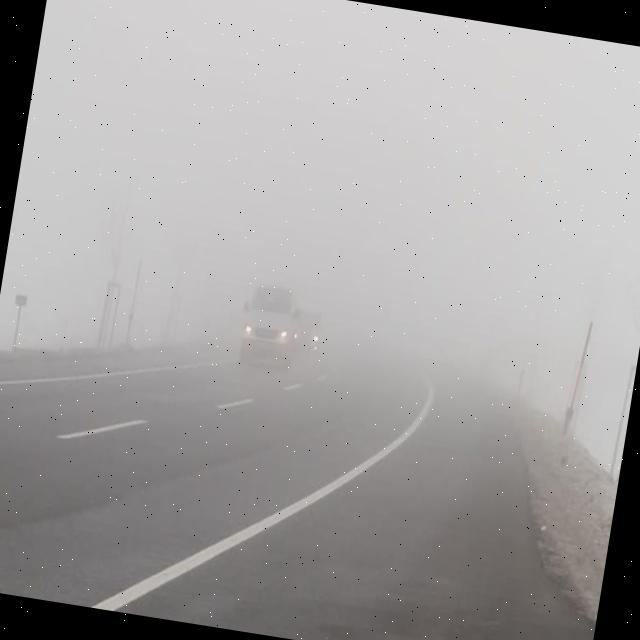car: (235, 280, 302, 370), (288, 301, 326, 361)
